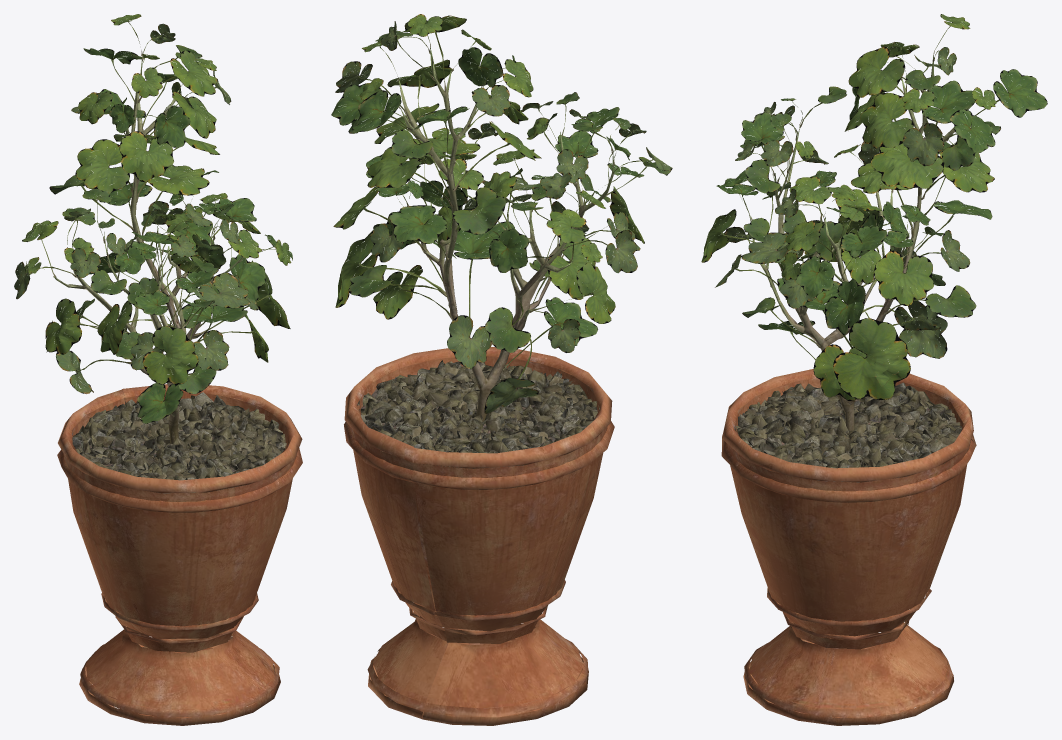
File: potted_plant_01.glb
3 renders of one model, left to right at view 1: azimuth 30°, elevation 25°; view 2: azimuth 150°, elevation 25°; view 3: azimuth 270°, elevation 25°, orthographic. The views are drawn at different scales.
Parts seen in each view (by area): view 1: potted_plant_01_leaves; view 2: potted_plant_01_leaves; view 3: potted_plant_01_leaves.
Boxes of the visible parts, box(x1,y1,x2,y2) form: potted_plant_01_leaves: box(14, 14, 302, 725); potted_plant_01_leaves: box(331, 14, 672, 725); potted_plant_01_leaves: box(701, 14, 1047, 725).
Bounding box in the file's own units: 0.5871 × 1.34 × 0.6328.
Materials: 2 (2 with a texture image).
